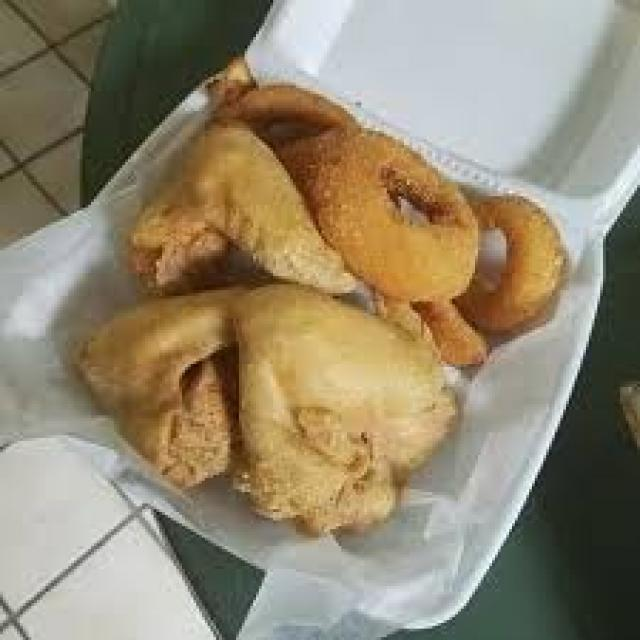Chicken Wings: (91, 117, 435, 529)
Onion Rings: (213, 48, 572, 350)
